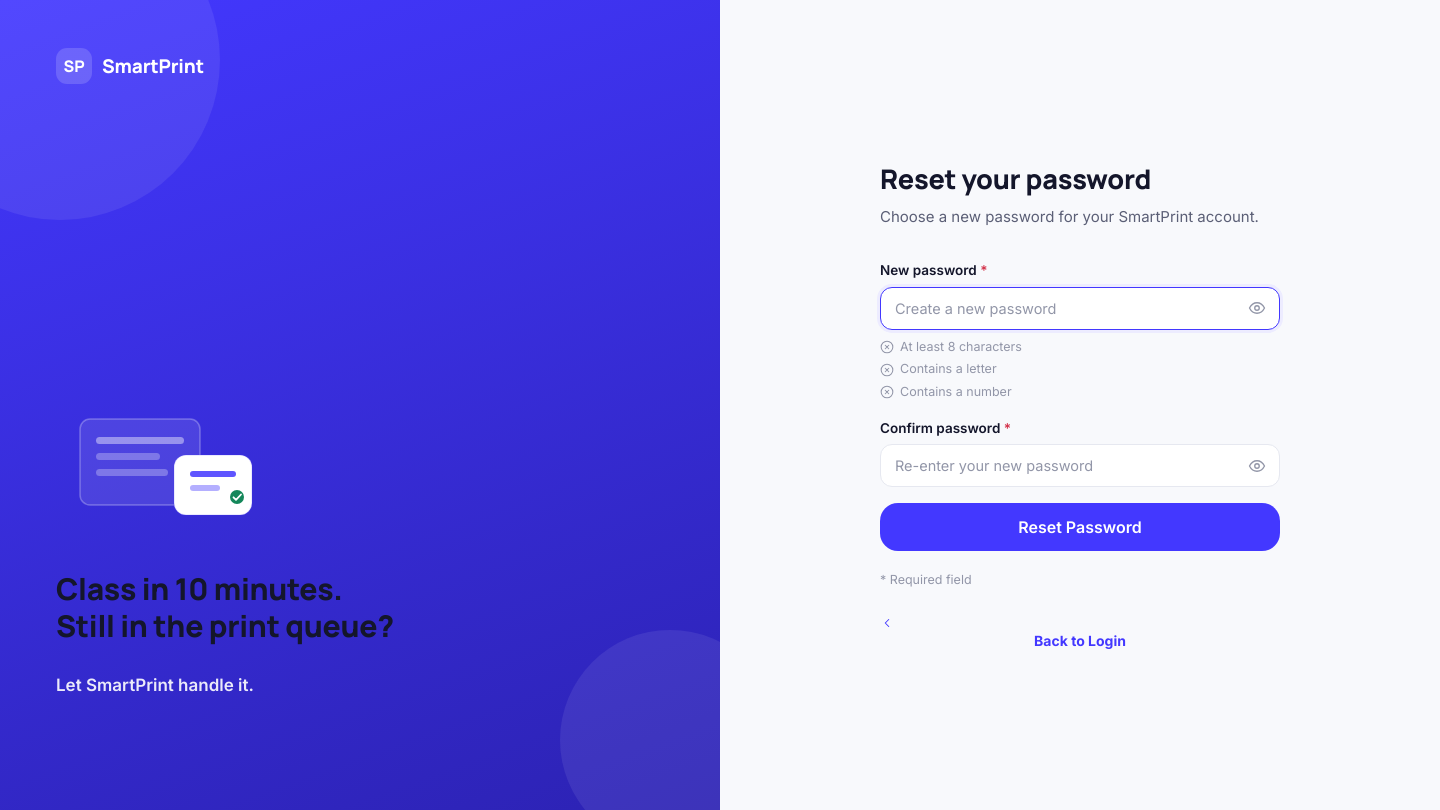
Test: ResetPasswordPage › shows an invalid/expired token error from the API with a link to request a new one
Step 1. Type "GoodPassword123" into the password field labelled "New password *" → (1080, 308), box [880,286,1280,330]
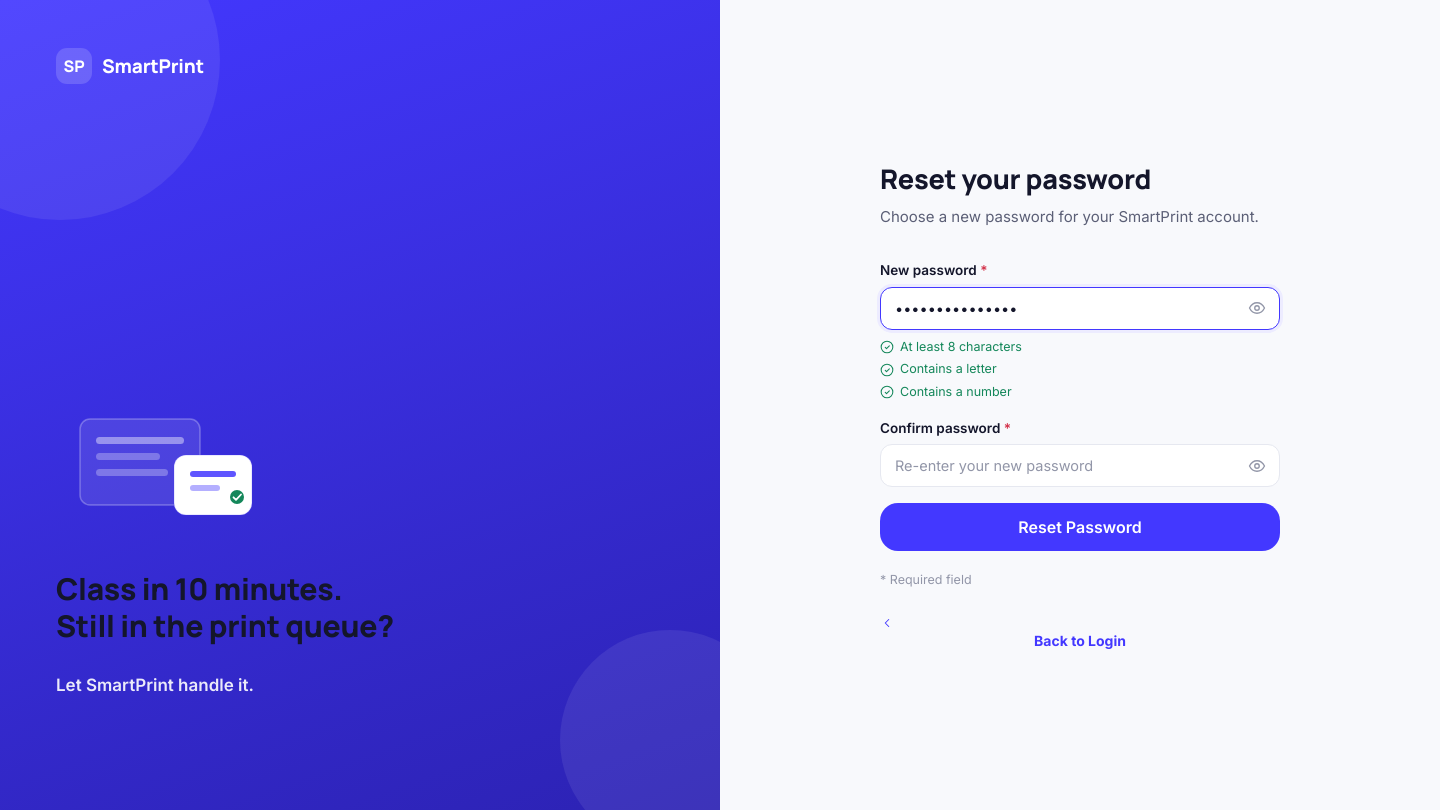
Step 2. Type "GoodPassword123" into the password field labelled "Confirm password *" → (1080, 466), box [880,444,1280,487]
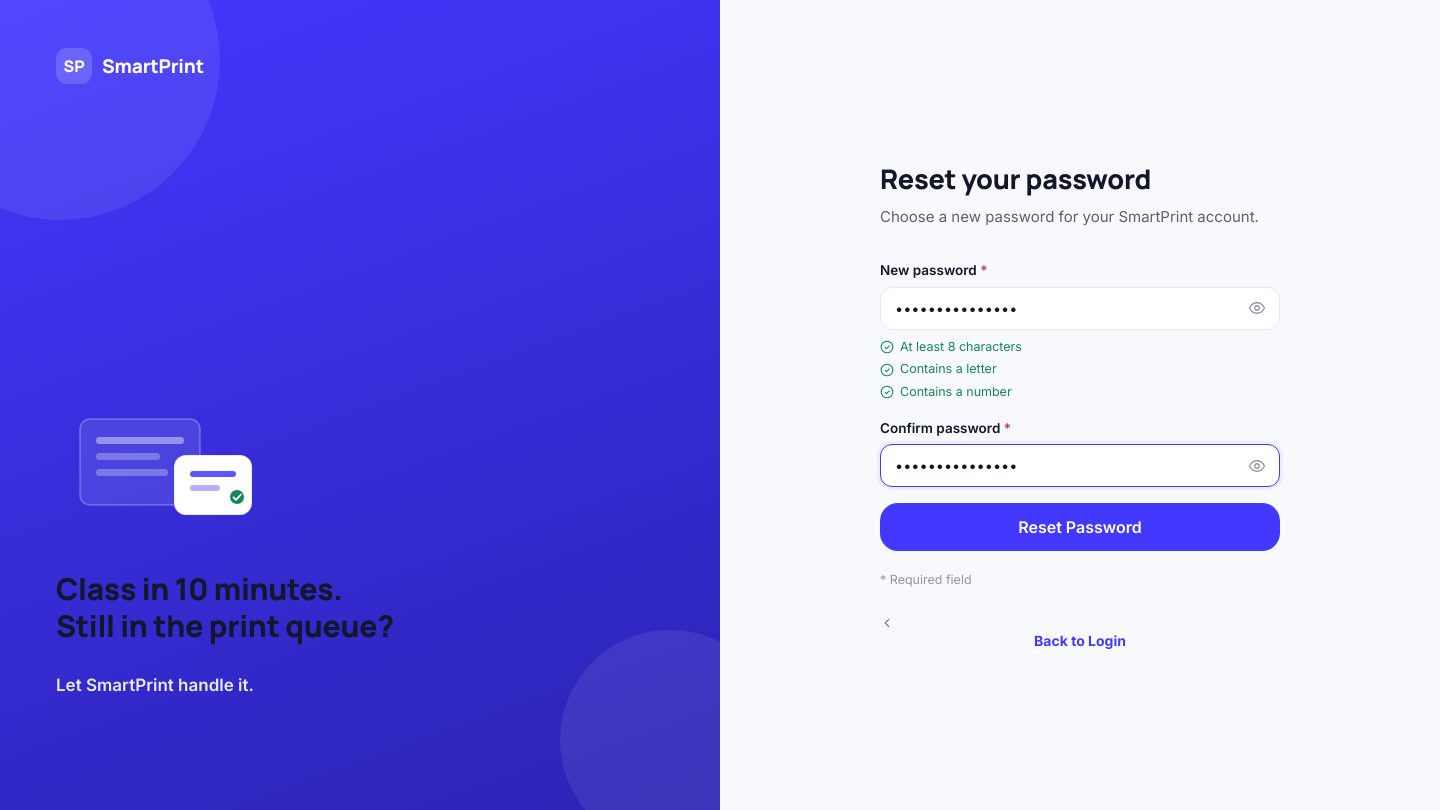
Step 3. Click the button "Reset Password" → (1080, 527), box [880,503,1280,551]
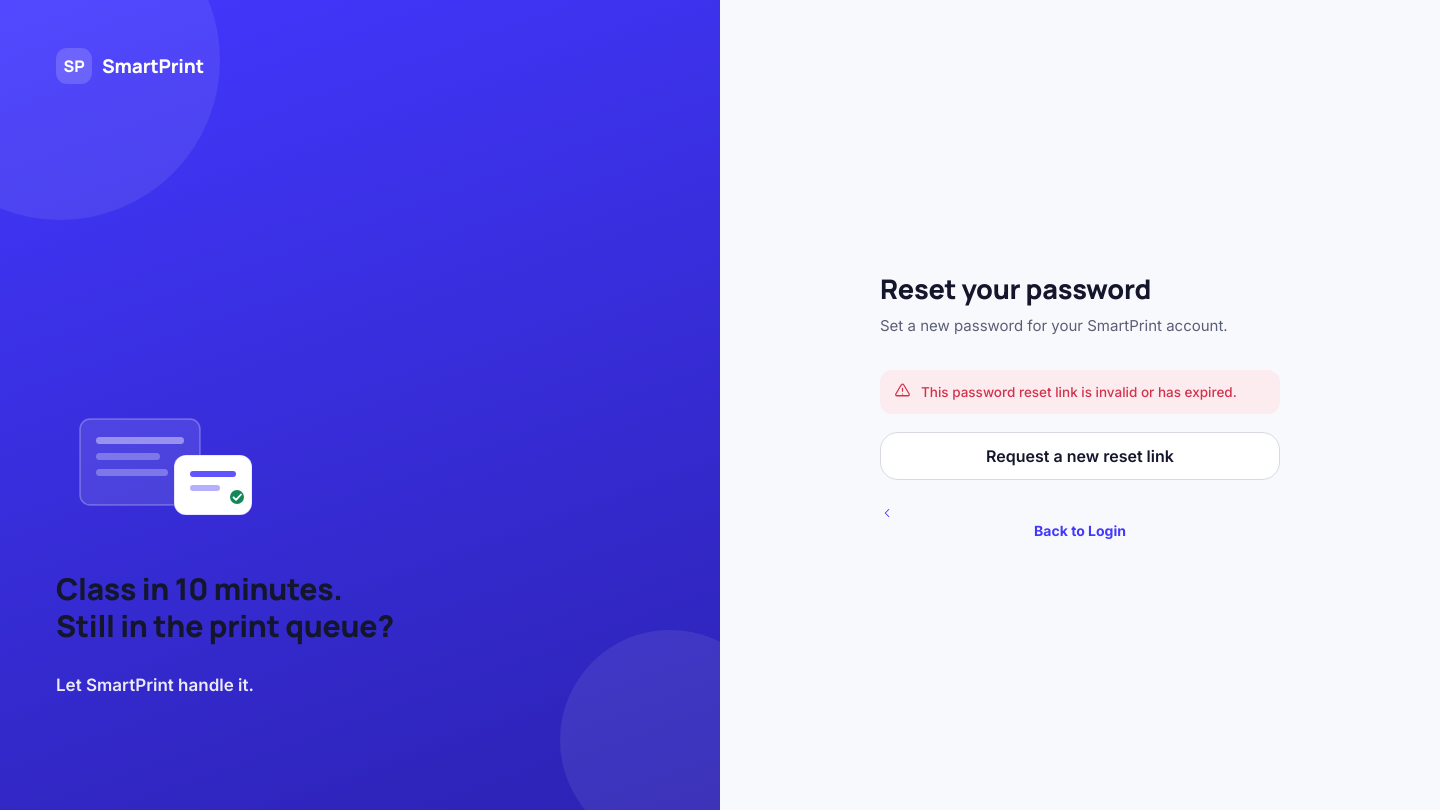
Expected: the text "This password reset link is invalid or has expired." is shown, [921,382,1237,402]
